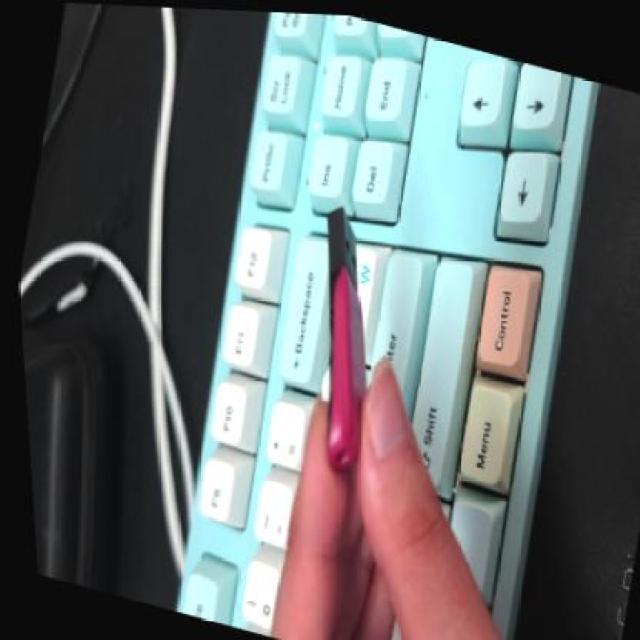Flashdisk: (268, 196, 410, 478)
